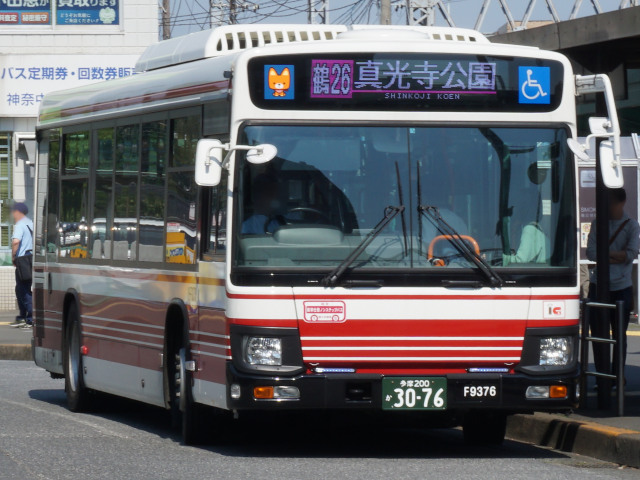destination: (305, 56, 511, 107)
